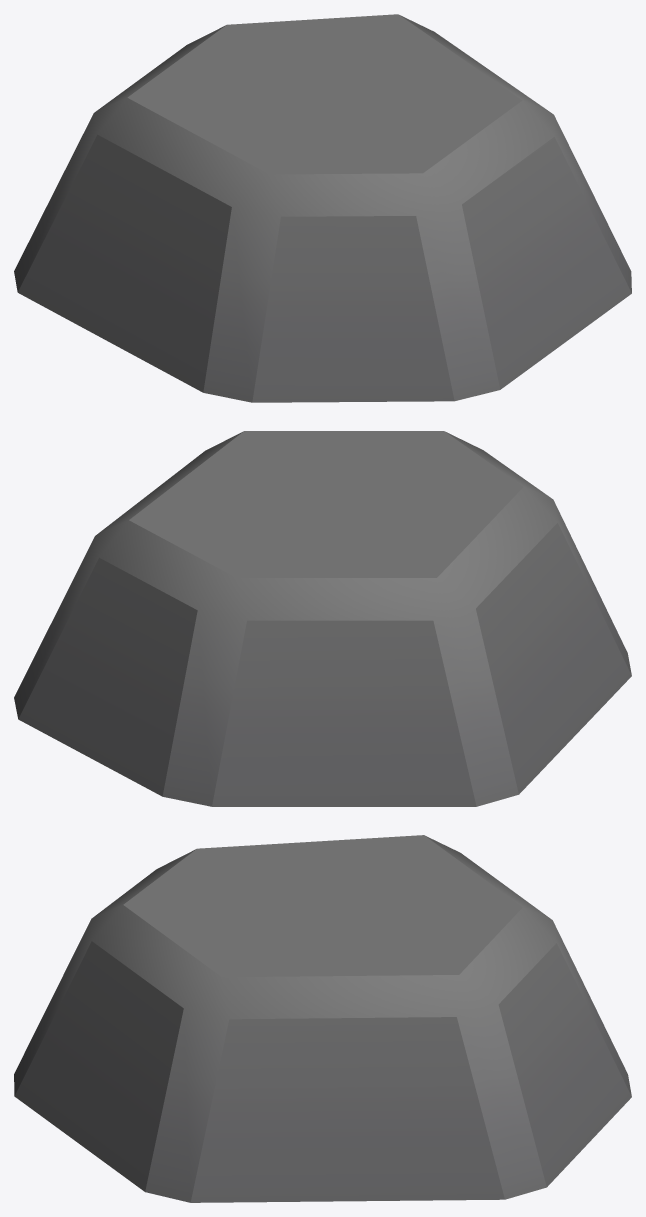
File: Rock_1_A.fbx
3 views of the same model, one above another, from view 1: azimuth 30°, elevation 25°; view 2: azimuth 150°, elevation 25°; view 3: azimuth 270°, elevation 25° (orthographic).
Parts seen in each view (by area): view 1: Rock_1_A; view 2: Rock_1_A; view 3: Rock_1_A.
Boxes of the visible parts, left/top/right/bottom form: Rock_1_A: left=14, top=14, right=631, bottom=402; Rock_1_A: left=14, top=431, right=631, bottom=806; Rock_1_A: left=14, top=835, right=631, bottom=1202.
Size of the model in its own units: 25.68 by 9.26 by 28.72.
